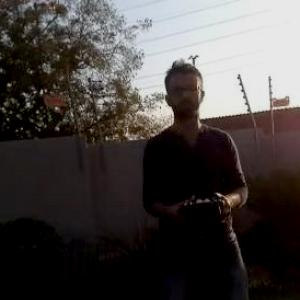follow: (137, 51, 256, 299)
